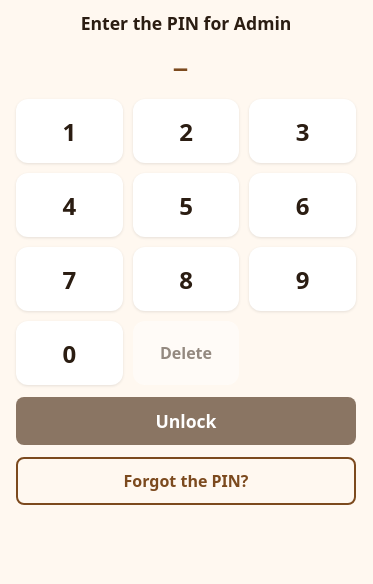
Test case: PinPrompt — entering a stored PIN › rejects a wrong PIN, counts it, and clears the entry
The width and height of the screenshot is (373, 584).
What coordinates should you click on to do the following:
click the button "0"
I would click on:
 (69, 353)
Its box is [16,321,123,385].
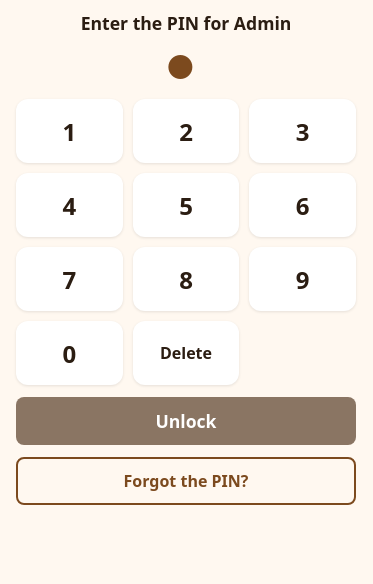
What coordinates should you click on to do the following:
click the button "0"
I would click on:
 (69, 353)
Its box is [16,321,123,385].
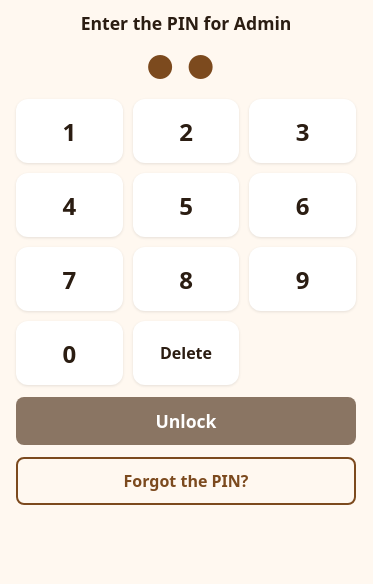
What coordinates should you click on to do the following:
click the button "0"
I would click on:
 (69, 353)
Its box is [16,321,123,385].
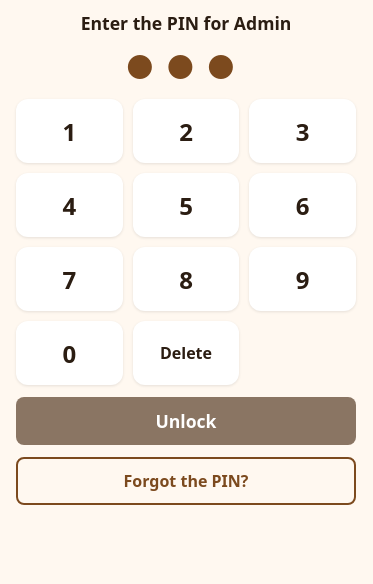
What coordinates should you click on to do the following:
click the button "0"
I would click on:
 (69, 353)
Its box is [16,321,123,385].
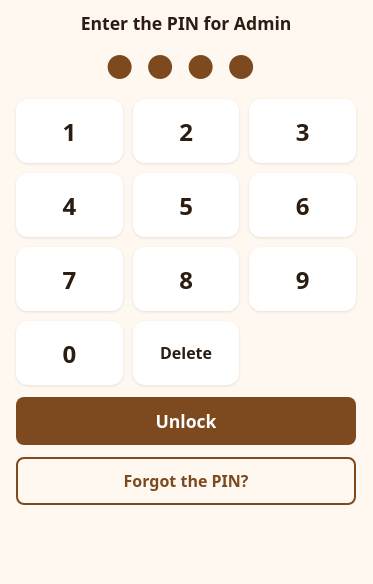
What coordinates should you click on to do the following:
click the button "Unlock"
I would click on:
 (186, 421)
Its box is [16,397,356,445].
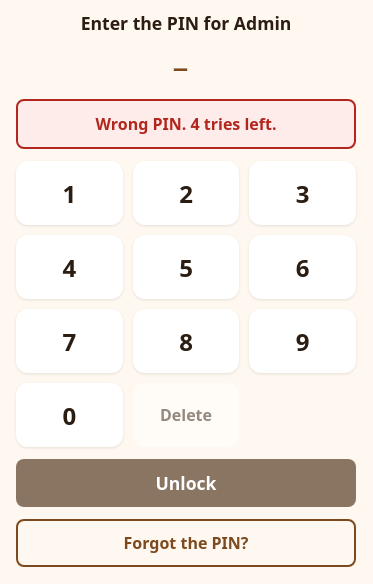
Expected: the message reads "Wrong PIN. 4 tries left.", [96,113,276,135]
Expected: the text named "0 digits entered" is shown, [172,45,200,88]
